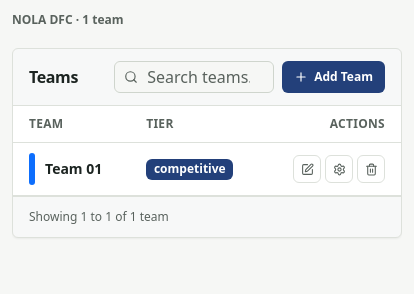
it: TeamList › swaps the name cell for an inline editor without leaving the table
Click the button named "edit team name".
click(307, 169)  # box [293,155,321,183]
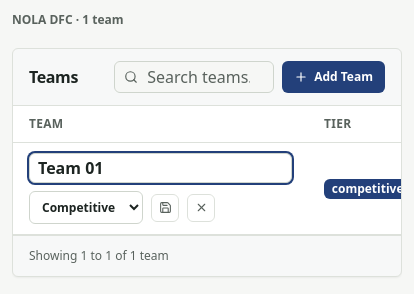
Result: the field named "team name" holds "Team 01" at [29,153,292,183]
